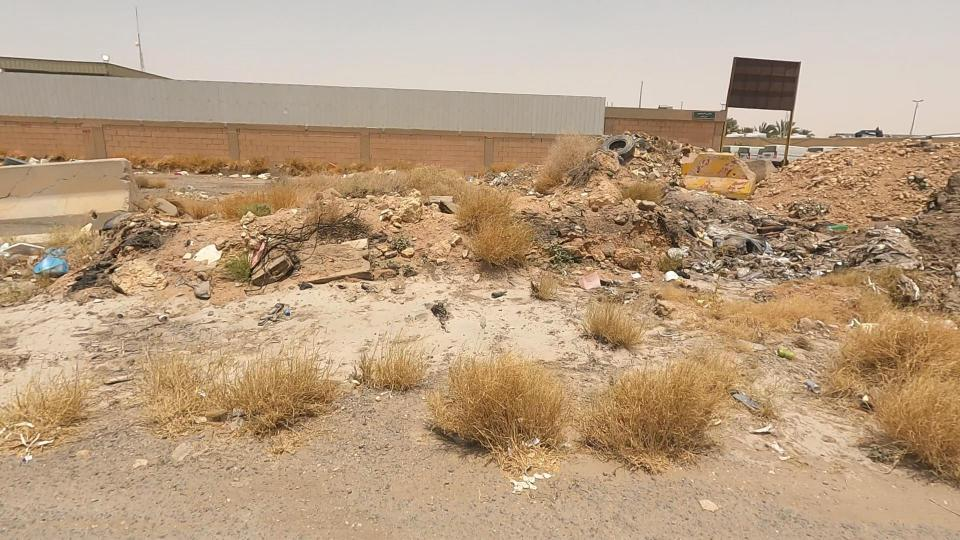GARBAGE: (0, 143, 272, 387), (107, 148, 448, 336), (772, 158, 960, 348), (643, 173, 856, 322), (621, 109, 822, 236), (519, 87, 714, 202), (429, 130, 575, 237), (170, 148, 319, 205), (0, 131, 122, 192), (139, 143, 233, 213)
